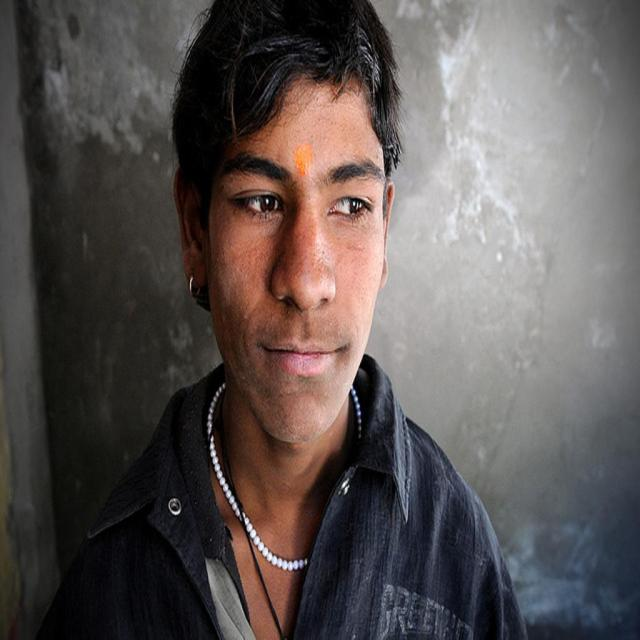Face: (201, 75, 394, 405)
